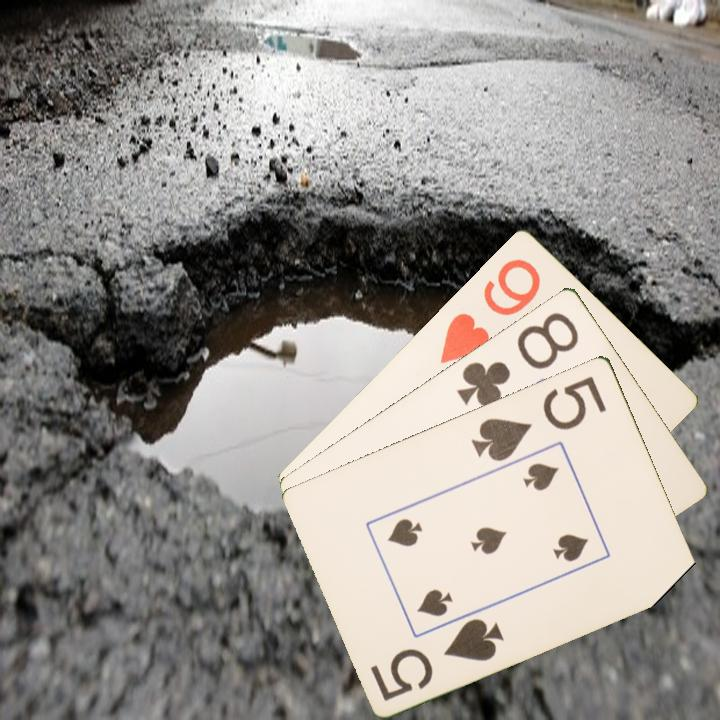5s: (467, 372, 610, 464), (367, 614, 508, 704)
8c: (452, 307, 582, 410)
9h: (436, 254, 544, 366)
